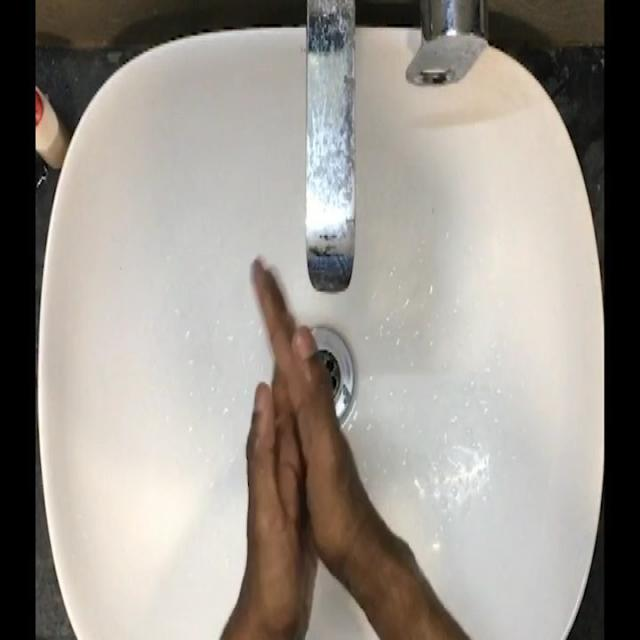step_3: (225, 247, 369, 583)
